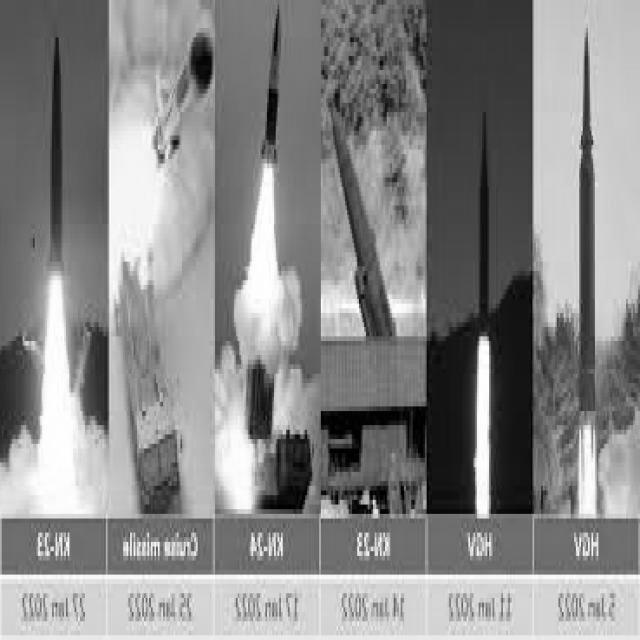missile: (326, 79, 398, 347), (575, 20, 598, 436), (251, 2, 286, 178), (44, 25, 64, 294), (473, 100, 494, 345)
